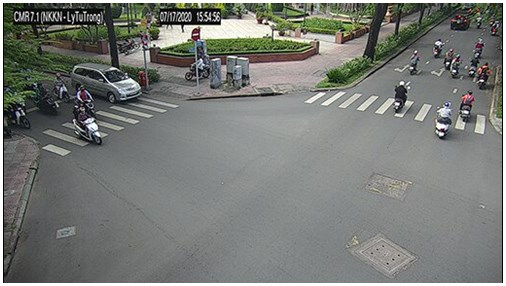di_bo: (309, 4, 315, 15)
xe_hoi: (72, 62, 142, 103), (449, 14, 472, 29)
xe_may: (70, 107, 102, 145), (35, 82, 57, 115), (74, 85, 96, 116), (434, 102, 451, 140), (8, 103, 31, 130), (53, 71, 72, 102), (393, 80, 409, 114), (187, 58, 210, 81), (460, 90, 476, 123), (117, 36, 139, 56), (476, 63, 490, 88), (451, 54, 463, 79), (468, 55, 479, 79), (409, 50, 419, 75), (432, 38, 443, 60), (443, 48, 453, 70), (473, 37, 485, 55), (471, 53, 481, 69), (490, 23, 497, 35), (475, 18, 483, 27)
